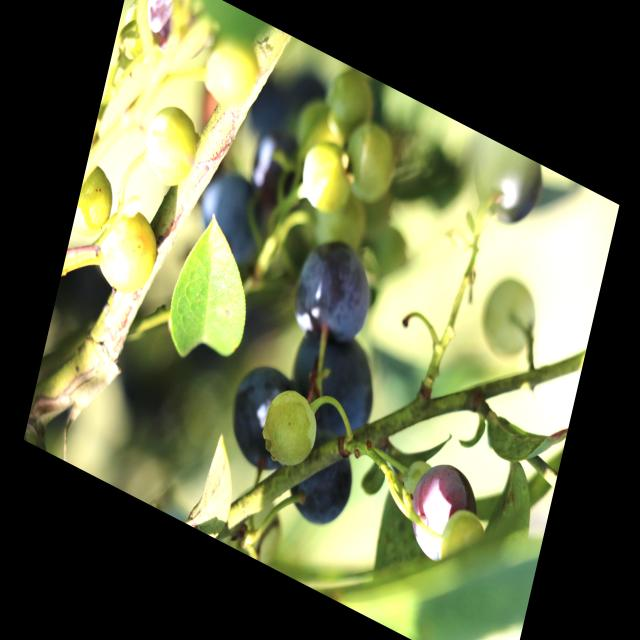blueberry: (280, 314, 384, 460), (284, 225, 387, 368), (220, 352, 310, 483), (281, 429, 363, 540), (192, 161, 270, 267)
blueberry-halfripe: (406, 451, 483, 571)
blueberry-unripe: (91, 196, 165, 307), (137, 93, 204, 201), (336, 115, 401, 212), (198, 26, 263, 120), (257, 384, 321, 479), (478, 271, 539, 365), (295, 132, 356, 220), (72, 160, 120, 246), (436, 502, 486, 582)
